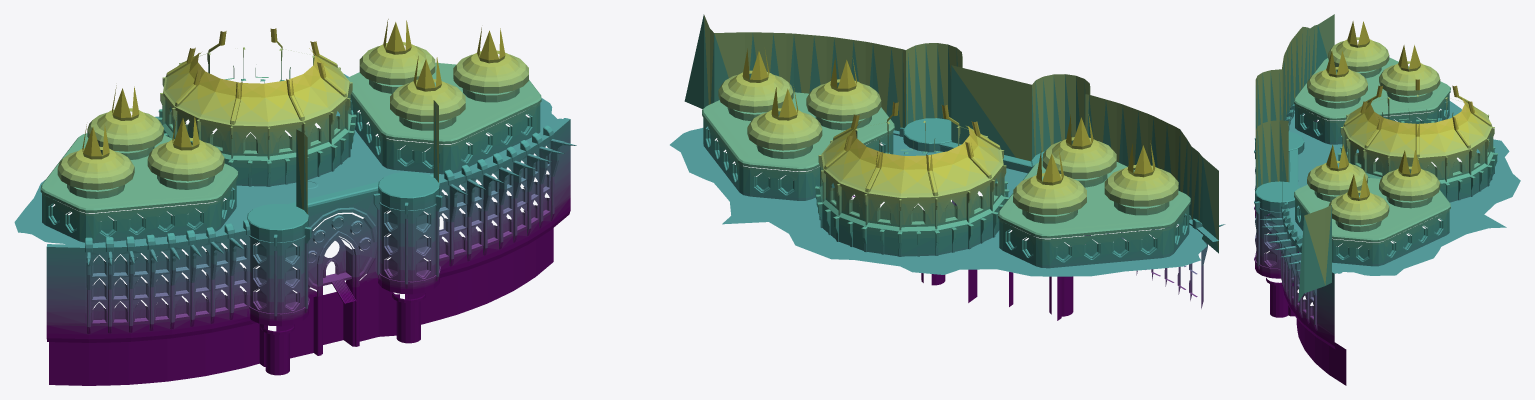
Rendered from 610_Castle_Ext.glb.
The picture shows the model from 3 angles, left to right: view 1: azimuth 30°, elevation 25°; view 2: azimuth 150°, elevation 25°; view 3: azimuth 270°, elevation 25°; orthographic projection. The views are drawn at different scales.
Visible parts, largest first — view 1: walls, floors; view 2: walls, floors; view 3: walls, floors.
Boxes of the visible parts, bbox=[...] form: walls: bbox=[40, 19, 576, 385]; floors: bbox=[14, 41, 576, 323]; walls: bbox=[684, 14, 1224, 320]; floors: bbox=[670, 70, 1223, 297]; walls: bbox=[1254, 14, 1497, 385]; floors: bbox=[1254, 37, 1520, 319].
Size of the model in its own units: 464 by 188 by 234.
